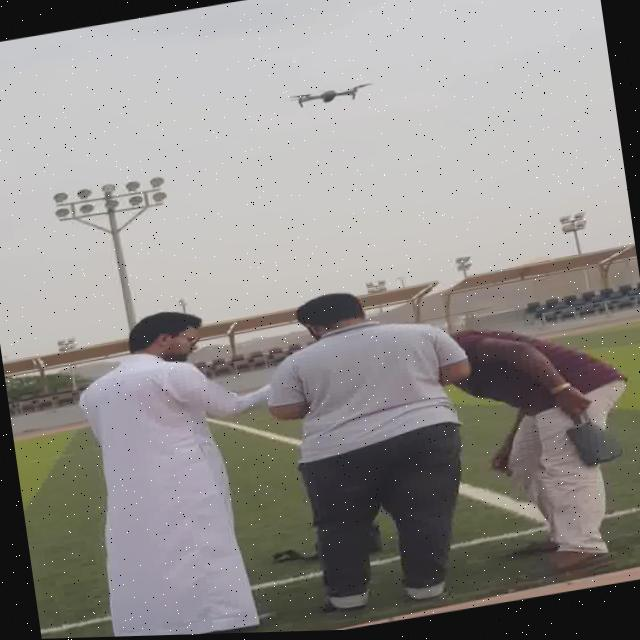drone: (276, 76, 383, 118)
